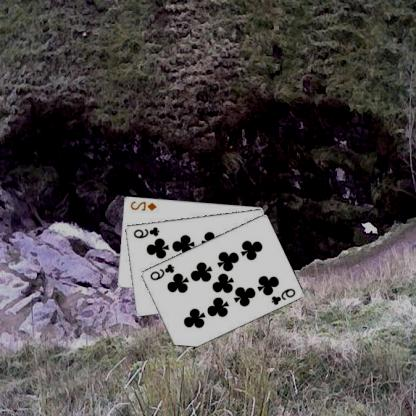2D: (130, 198, 159, 212)
9C: (149, 261, 177, 282), (270, 286, 298, 306), (133, 224, 162, 240)
